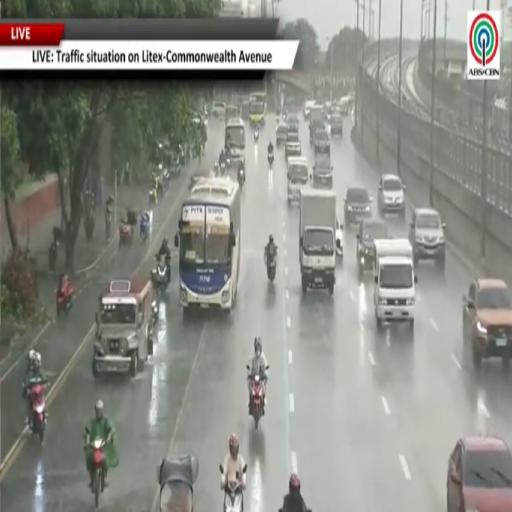bus: (174, 176, 241, 312), (225, 119, 245, 169), (249, 92, 266, 126)
car: (447, 436, 511, 511), (463, 278, 511, 367), (409, 208, 446, 270), (357, 218, 388, 275), (378, 174, 405, 217), (344, 186, 372, 226), (312, 154, 332, 188), (285, 133, 301, 161), (309, 121, 325, 146), (314, 131, 330, 153), (331, 112, 343, 136), (276, 122, 287, 147), (336, 219, 343, 258), (286, 115, 299, 133), (212, 102, 226, 118), (241, 101, 249, 120)
jeepney: (92, 279, 154, 377)
motorcycle: (29, 384, 46, 443), (92, 439, 104, 509), (250, 375, 264, 429), (224, 475, 243, 511), (152, 258, 170, 294), (57, 282, 73, 316), (265, 247, 277, 282), (119, 223, 133, 247), (48, 240, 58, 271), (140, 218, 149, 243), (105, 210, 112, 241), (238, 167, 246, 189), (152, 300, 158, 325), (149, 188, 157, 205), (219, 161, 226, 176), (268, 153, 274, 170), (254, 127, 258, 141), (282, 111, 287, 121), (279, 508, 286, 511)
truck: (373, 239, 417, 328), (300, 187, 336, 295), (309, 105, 325, 146)
